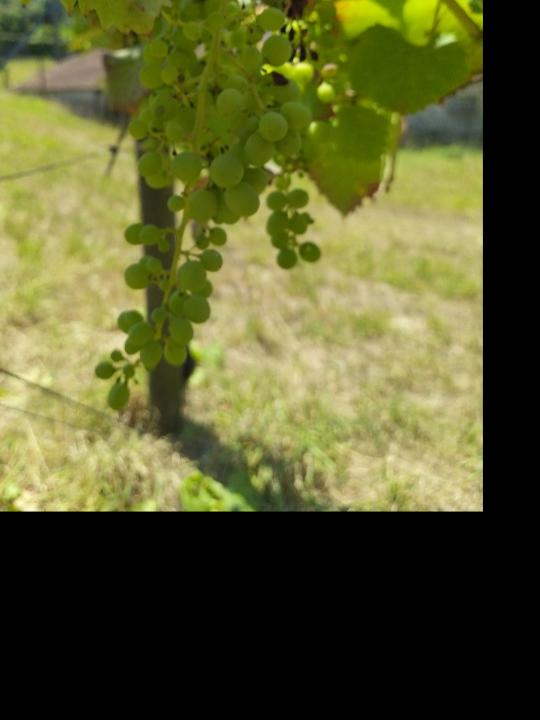grape: (93, 0, 311, 413)
